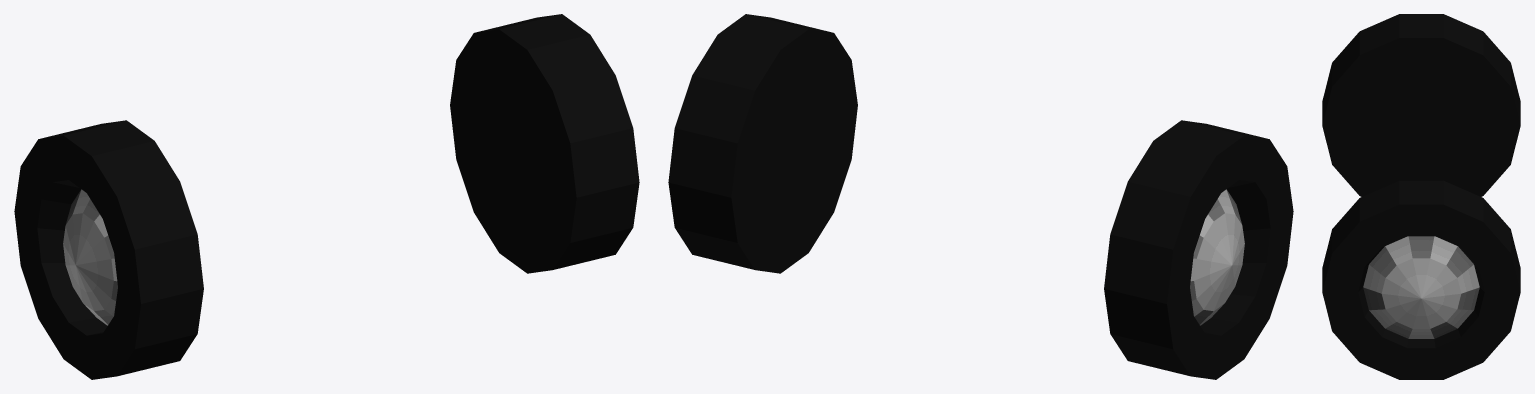
Rendered from WheelVanBack.fbx.
3 views of the same model, side by side, from view 1: azimuth 30°, elevation 25°; view 2: azimuth 150°, elevation 25°; view 3: azimuth 270°, elevation 25° (orthographic). The views are drawn at different scales.
Visible parts, largest first — view 1: WheelVanBack; view 2: WheelVanBack; view 3: WheelVanBack.
Boxes of the visible parts, box(x1,y1,x2,y2) form: WheelVanBack: box(14, 14, 639, 379); WheelVanBack: box(668, 14, 1293, 379); WheelVanBack: box(1322, 14, 1520, 379).
Size of the model in its own units: 1.43 by 0.6092 by 0.6249.
